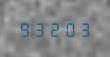nine: (18, 20, 32, 37)
three: (33, 20, 47, 37), (78, 20, 92, 37)
two: (48, 20, 62, 37)
zero: (63, 20, 77, 37)
